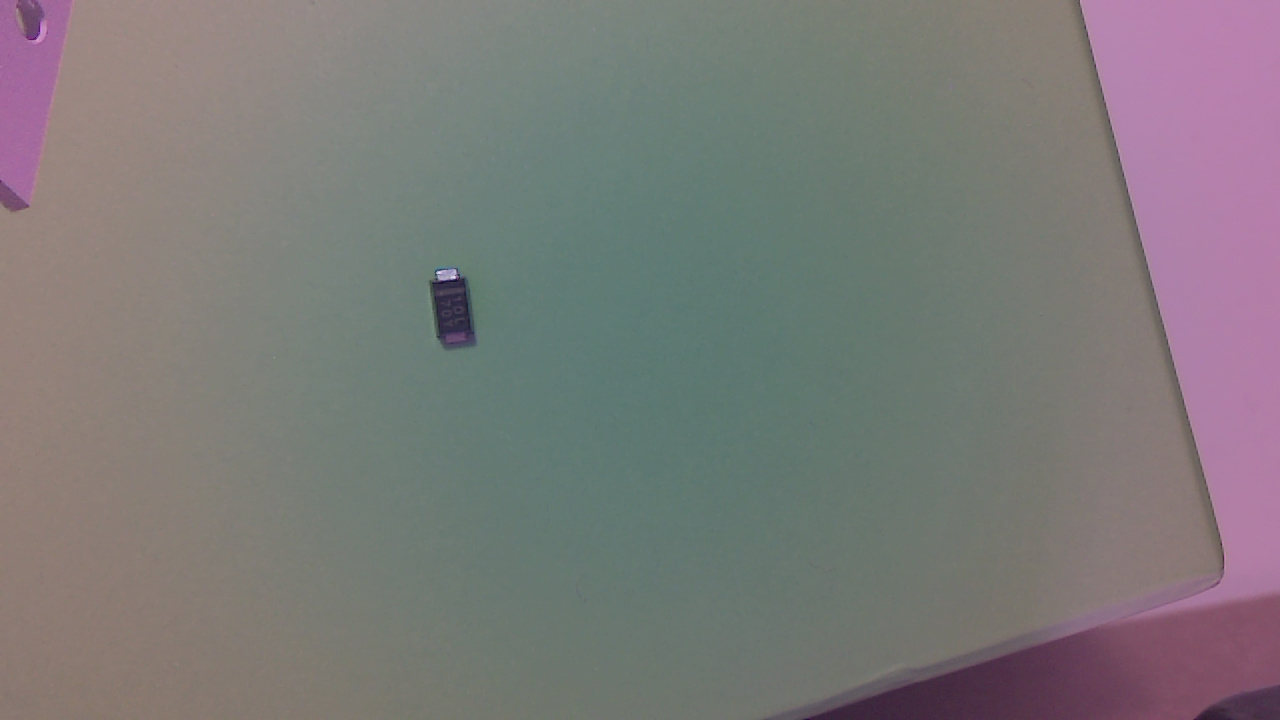Diode: (430, 272, 481, 355)
